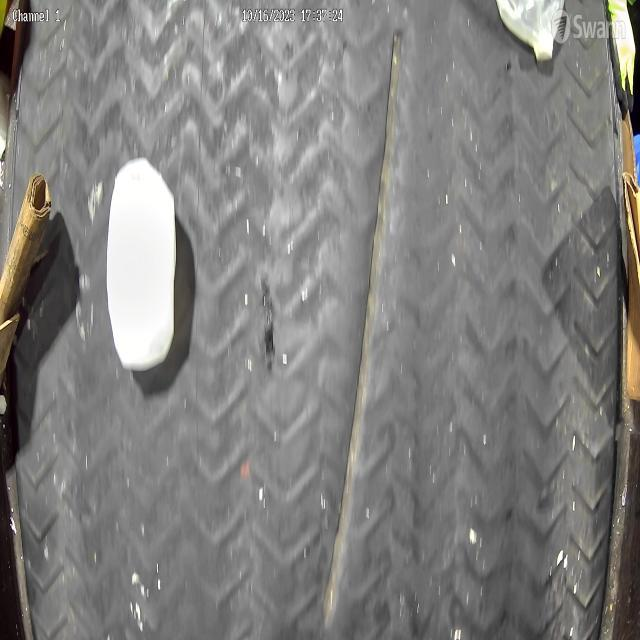can: (106, 145, 180, 386)
